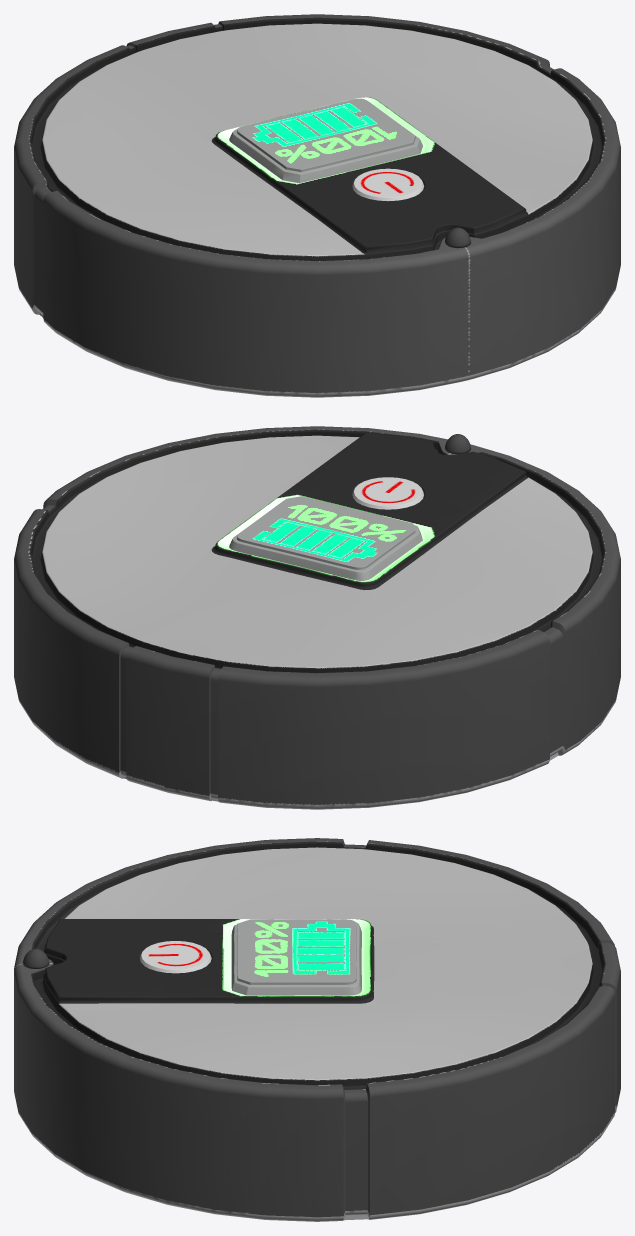
Rendered from runba_on_tex.fbx.
3 renders of one model, top to bottom at view 1: azimuth 30°, elevation 25°; view 2: azimuth 150°, elevation 25°; view 3: azimuth 270°, elevation 25°, orthographic.
Visible parts, largest first — view 1: runba; view 2: runba; view 3: runba.
Part boxes in pixels (x1,y1,x2,y2): runba: (14, 14, 620, 397); runba: (14, 426, 620, 809); runba: (14, 838, 620, 1221).
Size of the model in its own units: 43.12 by 11.53 by 43.08.
Materials: 1 (1 with a texture image).
